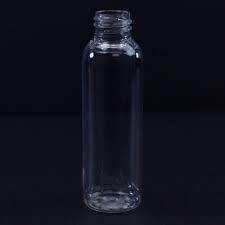Plastic bottle: (72, 9, 152, 218)
